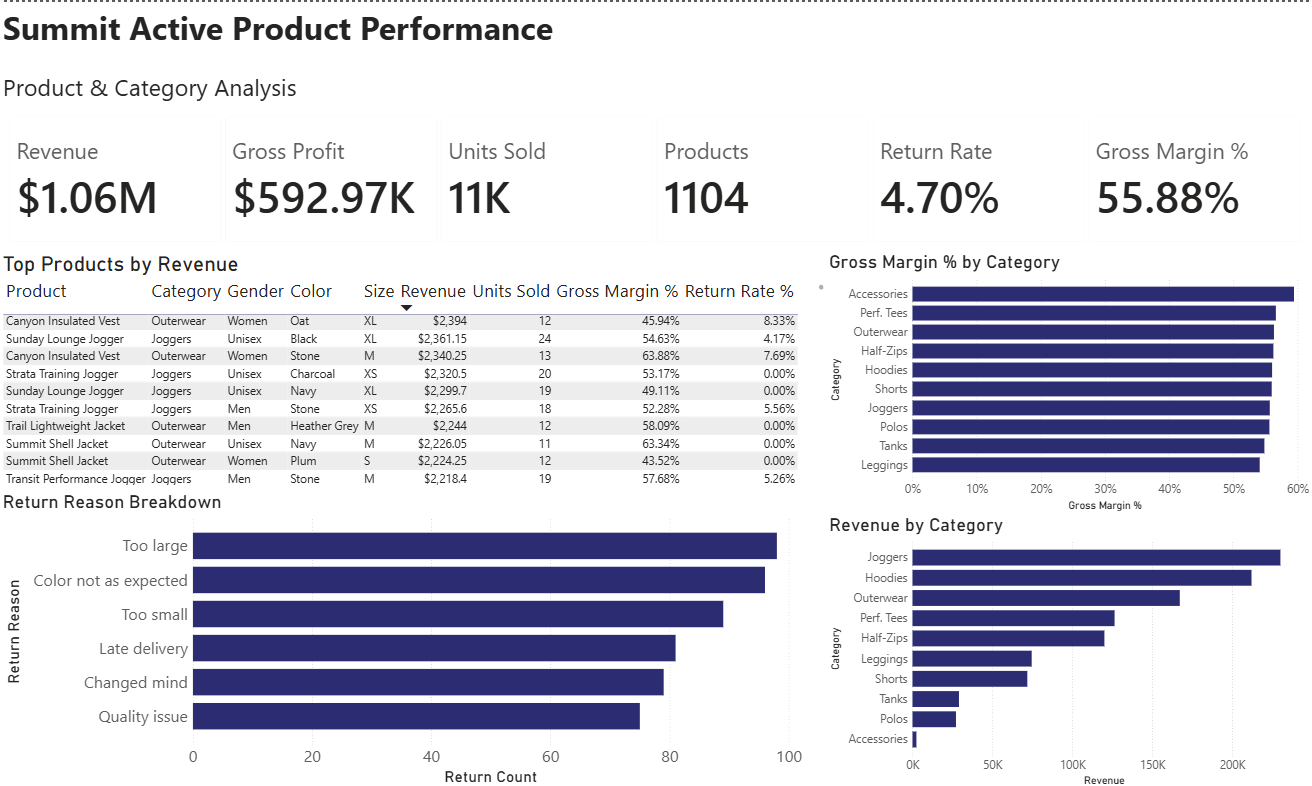

Layout of this report page (visuals, bound fields, positions):
{"tool":"powerbi","page":{"name":"Product Performance","canvas":[2400,1440],"ordinal":1},"visuals":[{"type":"textbox","box":[0,0,1776,168],"z":0},{"type":"textbox","box":[0,120,624,72],"z":1000},{"type":"cardVisual","fields":{"Data":["Sum(public v_product_performance.revenue)","Sum(public v_product_performance.gross_profit)","Sum(public v_product_performance.units_sold)","Count(public v_product_performance.product_id)","public v_category_performance.Product Return Rate","public v_category_performance.Product Gross Margin %"]},"box":[0,192,2400,264],"z":2000},{"type":"tableEx","title":"Top Products by Revenue","fields":{"Values":["public v_product_performance.product_name","public v_product_performance.category","public v_product_performance.gender","public v_product_performance.color","public v_product_performance.size","Sum(public v_product_performance.revenue)","Sum(public v_product_performance.units_sold)","Sum(public v_product_performance.Gross Margin % Display)","Sum(public v_product_performance.Return Rate % Display)"]},"box":[0,456,1512,432],"z":3000},{"type":"clusteredBarChart","fields":{"Category":["public v_category_performance.category"],"Y":["Sum(public v_category_performance.revenue)"]},"box":[1512,936,888,504],"z":4000},{"type":"clusteredBarChart","fields":{"Y":["Sum(public v_category_performance.Category Gross Margin % Display)"],"Category":["public v_category_performance.category"]},"box":[1512,456,888,480],"z":5000},{"type":"clusteredBarChart","title":"Return Reason Breakdown","fields":{"Y":["Sum(public v_return_reason_breakdown.return_count)"],"Category":["public v_return_reason_breakdown.return_reason"]},"box":[0,896,1472,544],"z":6000}]}

Visuals, with their boxes in screenshot pixels (x1, y1, x2, y2), scaled from the page's 2400x1440 canvas onto the 1312x786 screenshot:
textbox: bbox=(0, 0, 971, 92)
textbox: bbox=(0, 66, 341, 105)
cardVisual - Sum(public v_product_performance.revenue) x Sum(public v_product_performance.gross_profit): bbox=(0, 105, 1311, 249)
"Top Products by Revenue" tableEx: bbox=(0, 249, 827, 485)
clusteredBarChart - public v_category_performance.category x Sum(public v_category_performance.revenue): bbox=(827, 511, 1311, 785)
clusteredBarChart - Sum(public v_category_performance.Category Gross Margin % Display) x public v_category_performance.category: bbox=(827, 249, 1311, 511)
"Return Reason Breakdown" clusteredBarChart: bbox=(0, 489, 805, 785)
